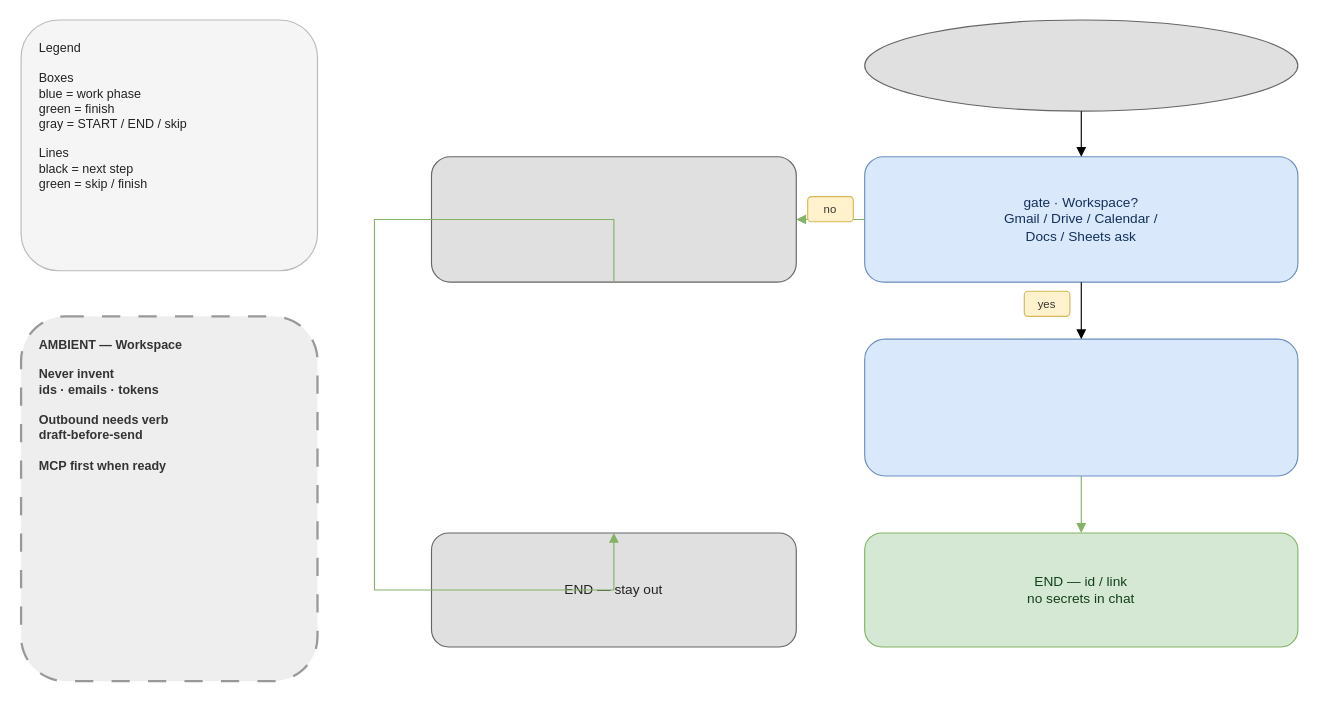
This 1318x702 diagram has some shape labels left out. The centre of each missing label's shape, as x and y in pixels:
"route + act gmail · drive · calendar · docs/sheets rules" goes at (1081,407).
"skip — no Workspace ordinary coding; do not touch mailbox for sport" goes at (613,219).
"START — user ask" goes at (1081,65).
